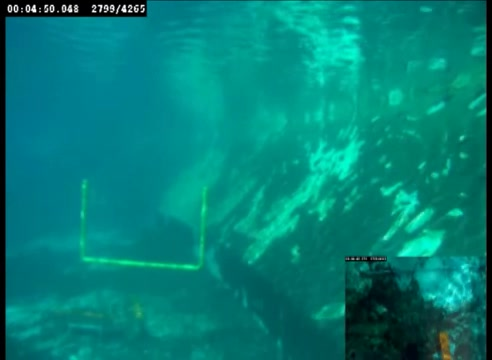channel: (75, 174, 210, 272)
